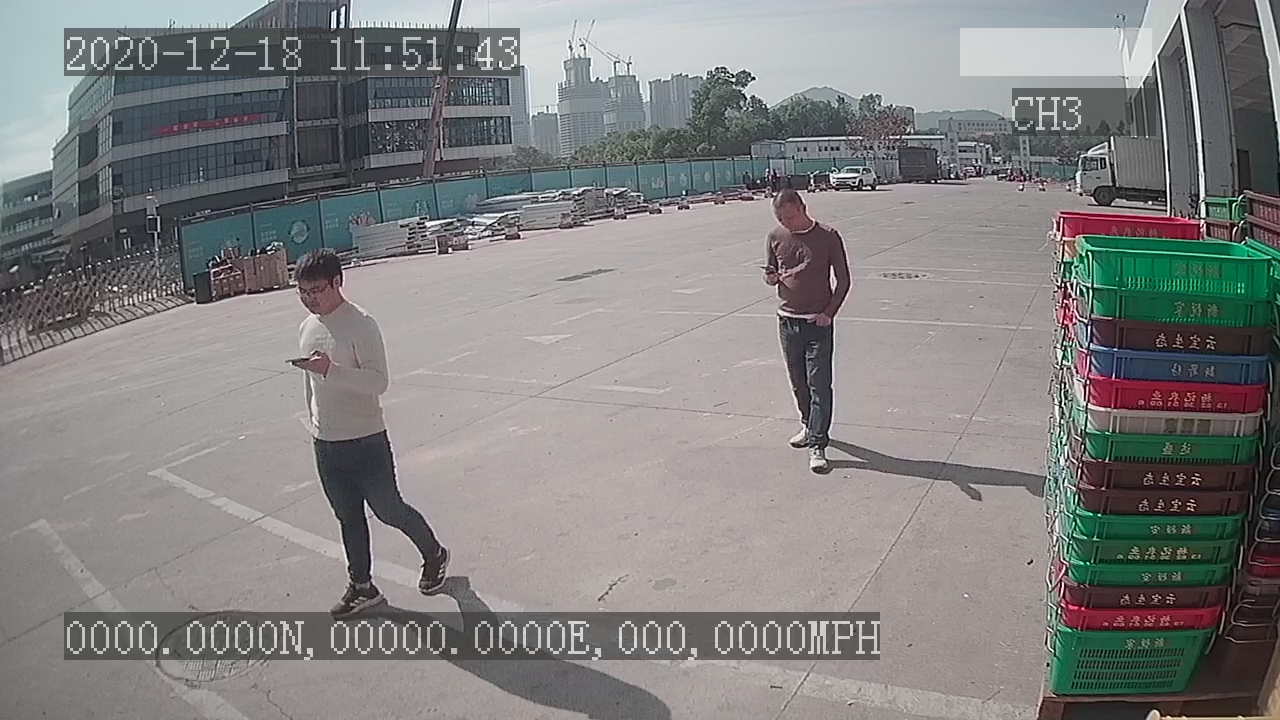person: (276, 242, 459, 613), (751, 181, 859, 483)
